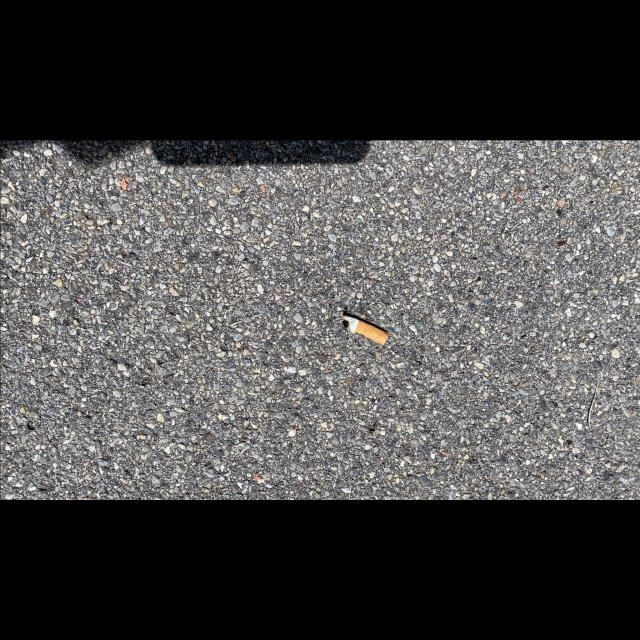cigarette: (342, 314, 389, 345)
